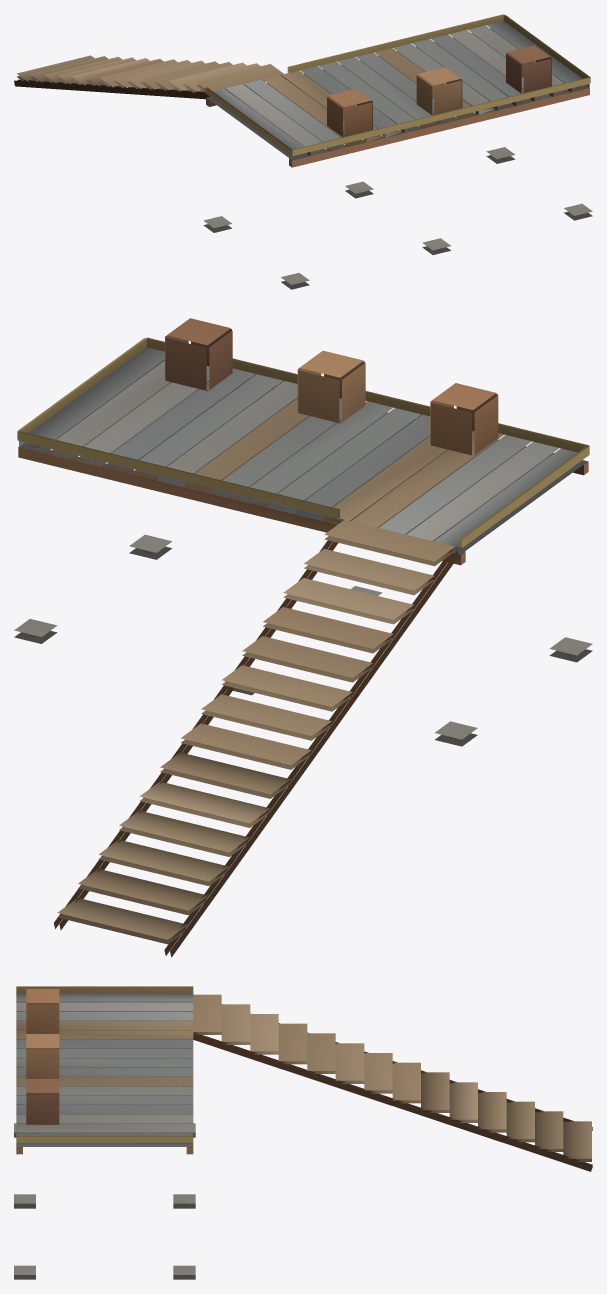
Rendered from deck.lod.glb.
3 views of the same model, one above another, from view 1: azimuth 30°, elevation 25°; view 2: azimuth 150°, elevation 25°; view 3: azimuth 270°, elevation 25° (orthographic). The views are drawn at different scales.
Parts seen in each view (by area): view 1: deck; view 2: deck; view 3: deck.
Part boxes in pixels (bbox=[...]): deck: bbox=[14, 14, 592, 289]; deck: bbox=[14, 318, 592, 957]; deck: bbox=[14, 986, 592, 1279].
Bounding box in the file's own units: 8.1 × 4.27 × 13.07.
